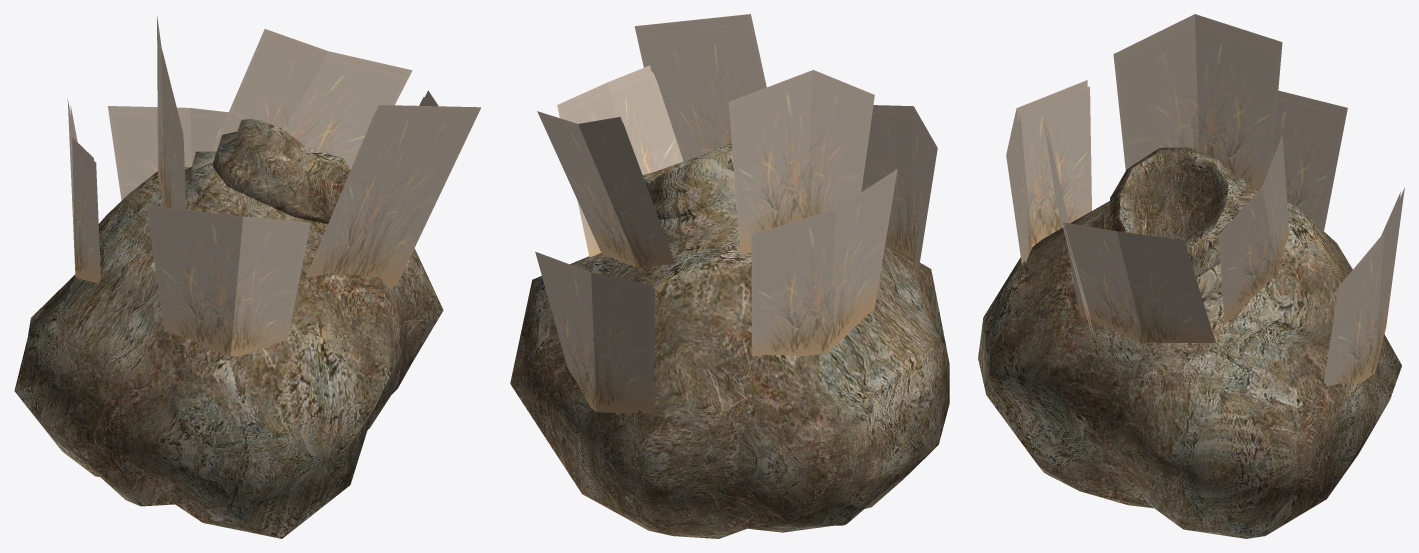
Rendered from poi_all_lair_mound_small_l0.fbx.
3 renders of one model, left to right at view 1: azimuth 30°, elevation 25°; view 2: azimuth 150°, elevation 25°; view 3: azimuth 270°, elevation 25°, orthographic. The views are drawn at different scales.
Parts seen in each view (by area): view 1: mesh_node; view 2: mesh_node; view 3: mesh_node.
Part boxes in pixels (x1,y1,x2,y2): mesh_node: (14,15,481,538); mesh_node: (510,14,949,538); mesh_node: (978,14,1404,538).
Bounding box in the file's own units: 2.47 × 2.85 × 2.38.
